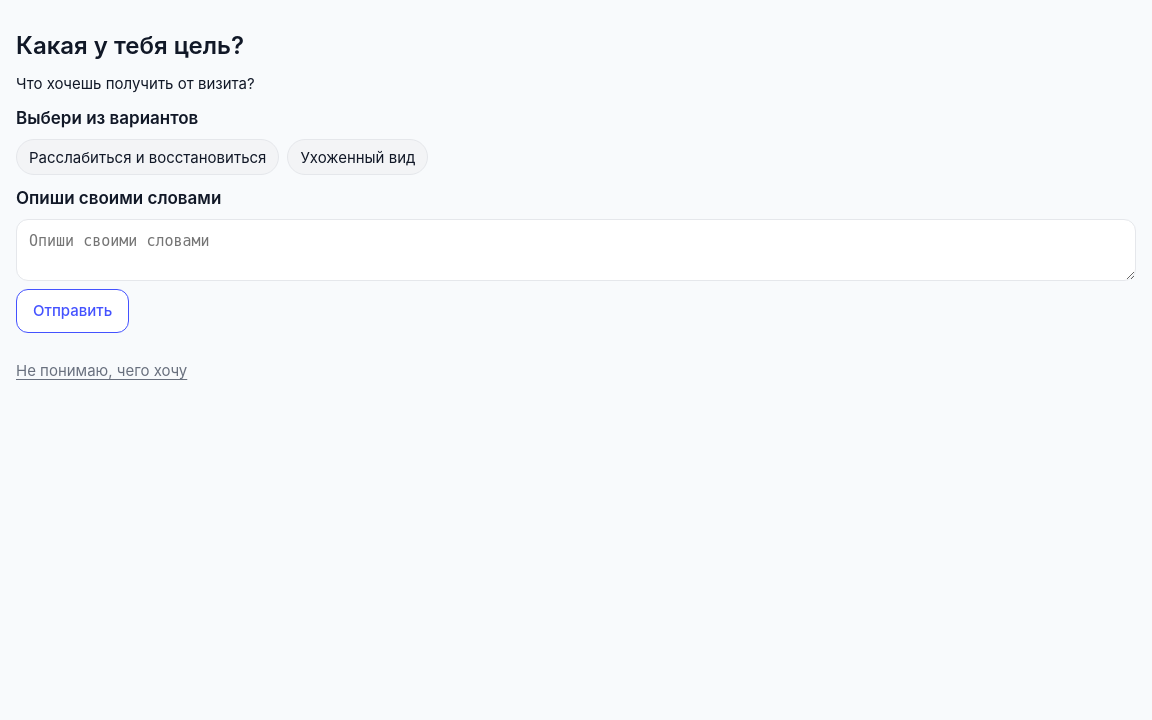
Test: GoalSelectScreen (dumb renderer over the decision document) › free-form submit → postGoalSelect({goal_text})
This screenshot has width=1152, height=720.
Type "Хочу избавиться от напряжения в плечах" into the text box labelled "Опиши своими словами" at coordinates (576, 250), box top-left (16, 219), bottom-right (1136, 281)
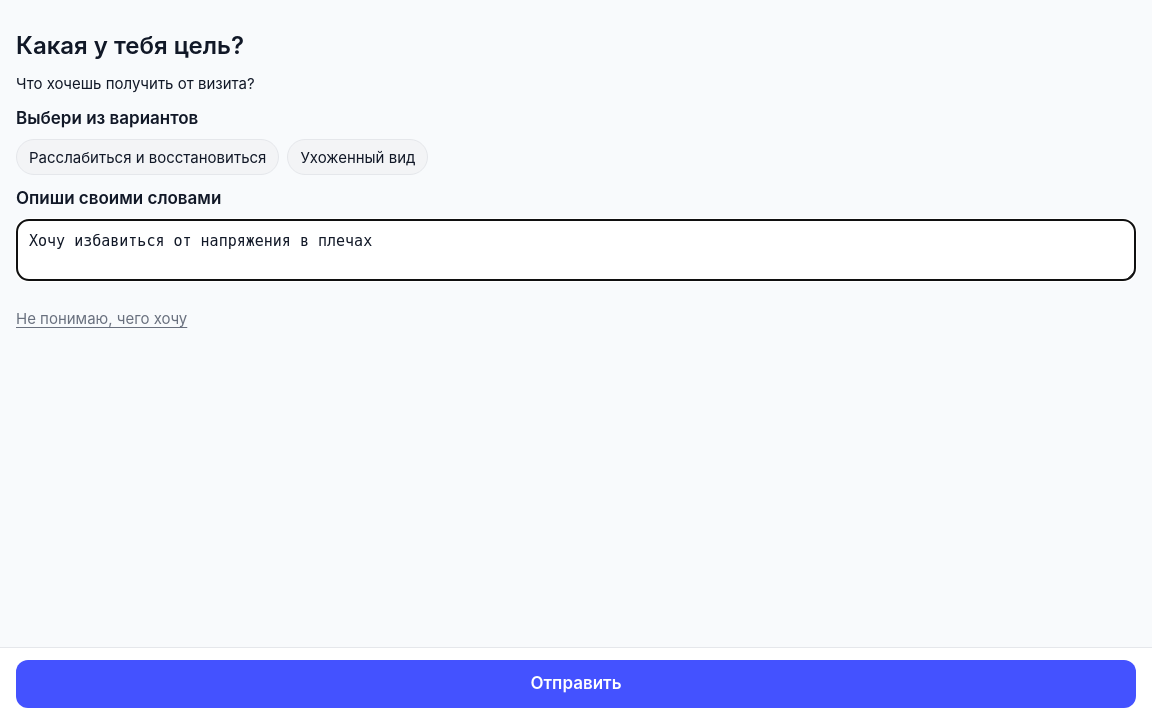
Click the button "Отправить" at coordinates (576, 684), box top-left (16, 660), bottom-right (1136, 708)
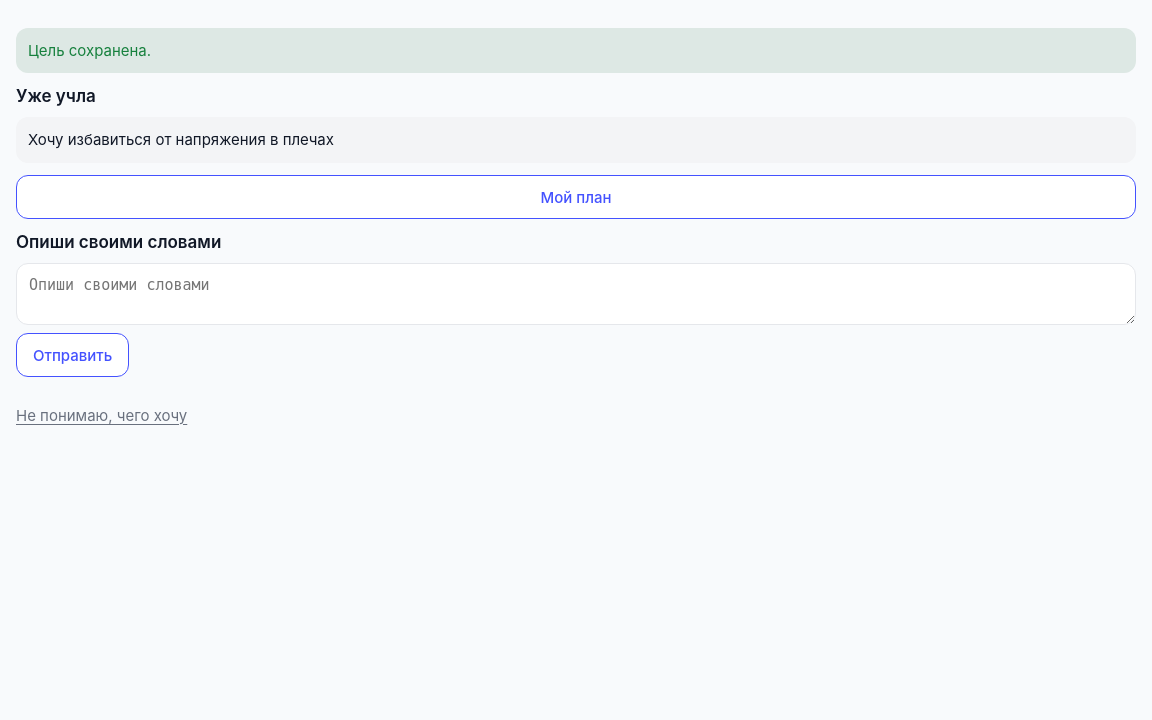
Check: the text "Хочу избавиться от напряжения в плечах" is shown, box top-left (28, 129), bottom-right (334, 151)
